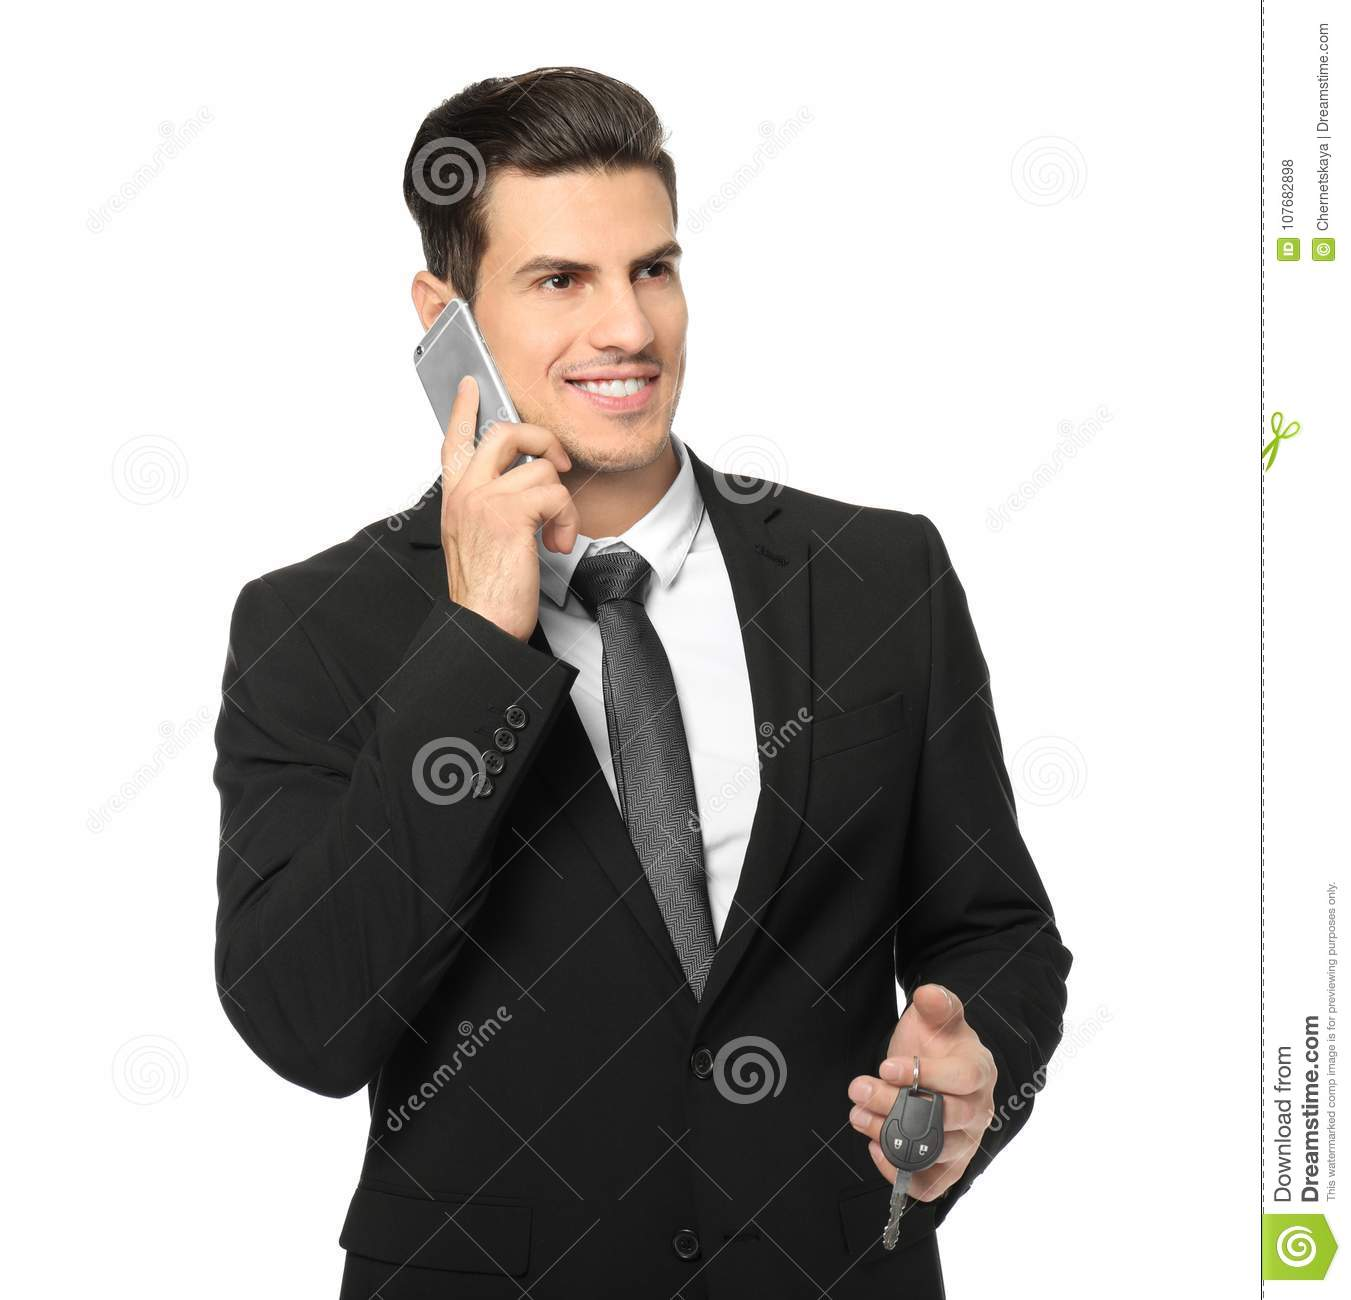phone: (420, 295, 538, 484)
talk: (413, 228, 694, 633)
